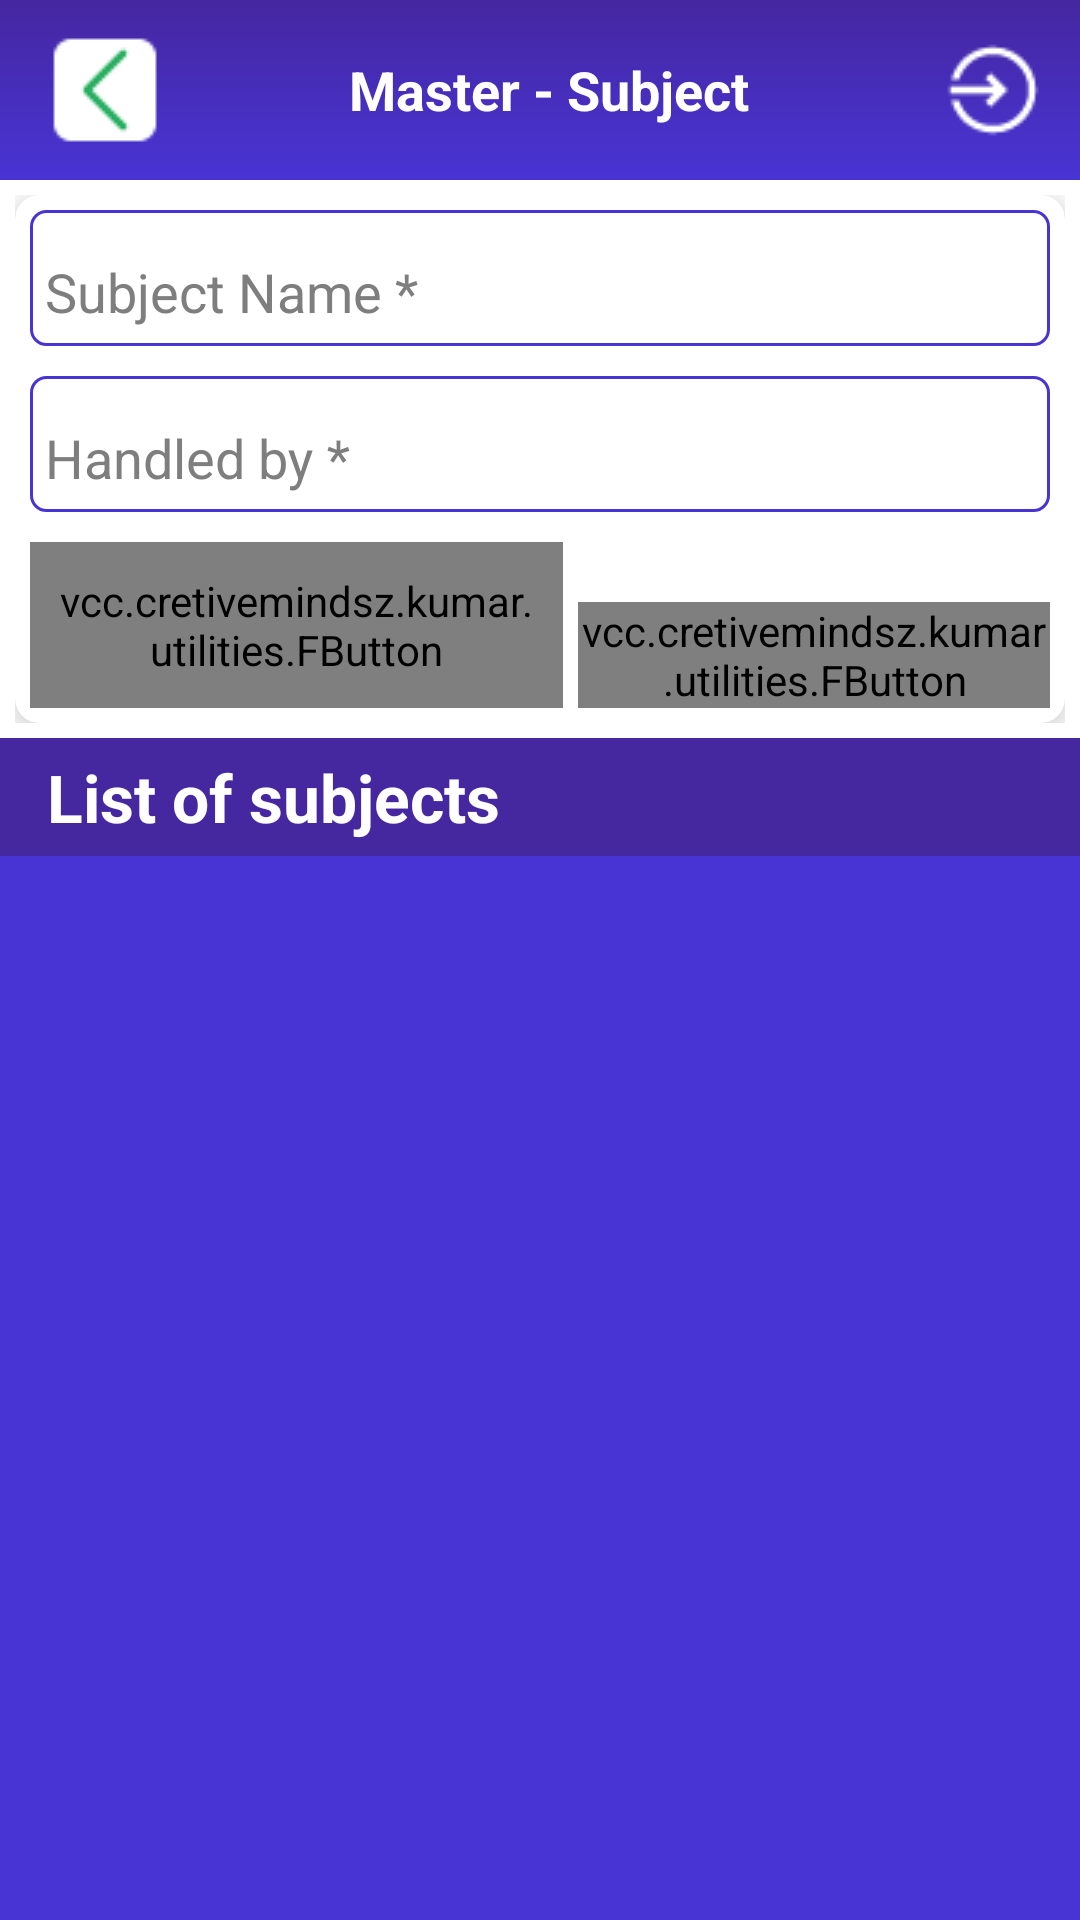

Named icons in this screenshot (1080w x 1920h) and their bounding boxes, [left=x1, top=y1, right=x2, bottom=y2]:
back: [left=48, top=38, right=162, bottom=147]
exit: [left=936, top=45, right=1050, bottom=147]
